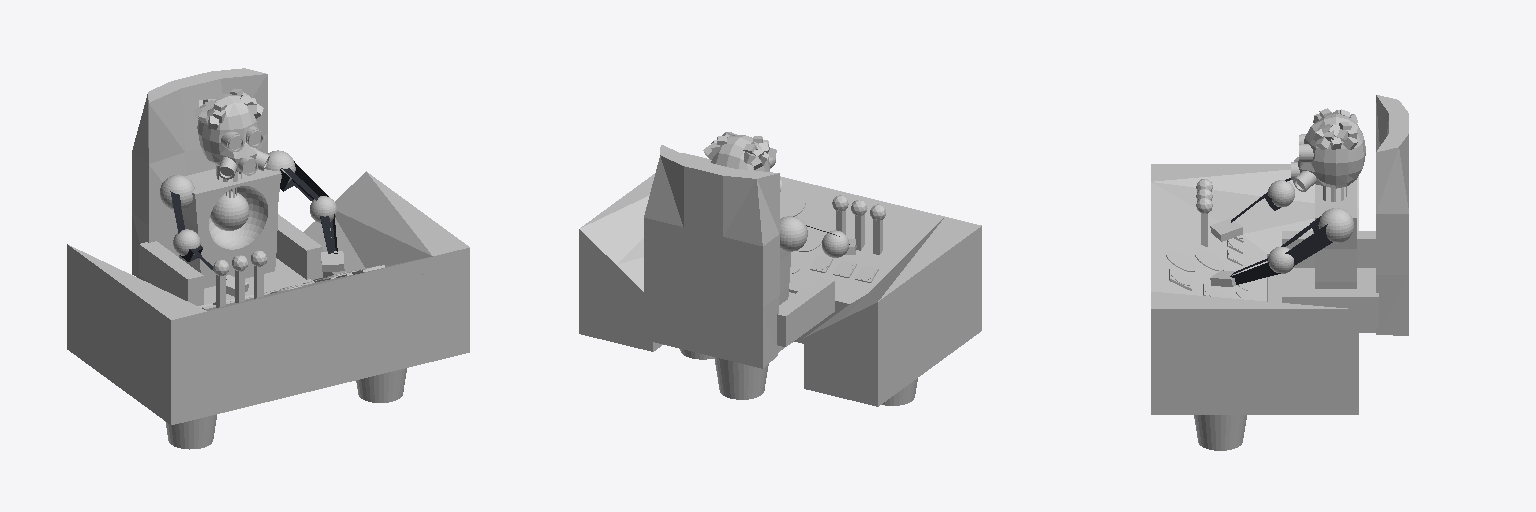
The picture shows the model from 3 angles: view 1: azimuth 30°, elevation 25°; view 2: azimuth 150°, elevation 25°; view 3: azimuth 270°, elevation 25°; orthographic projection.
Visible parts, largest first — view 1: 立方体.010; view 2: 立方体.010; view 3: 立方体.010.
Boxes of the visible parts, <box> form: 立方体.010: <box>67,68,469,449</box>; 立方体.010: <box>579,132,981,406</box>; 立方体.010: <box>1151,95,1408,450</box>.
Size of the model in its own units: 15.63 by 13.9 by 11.71.
13 materials, 1 textured.